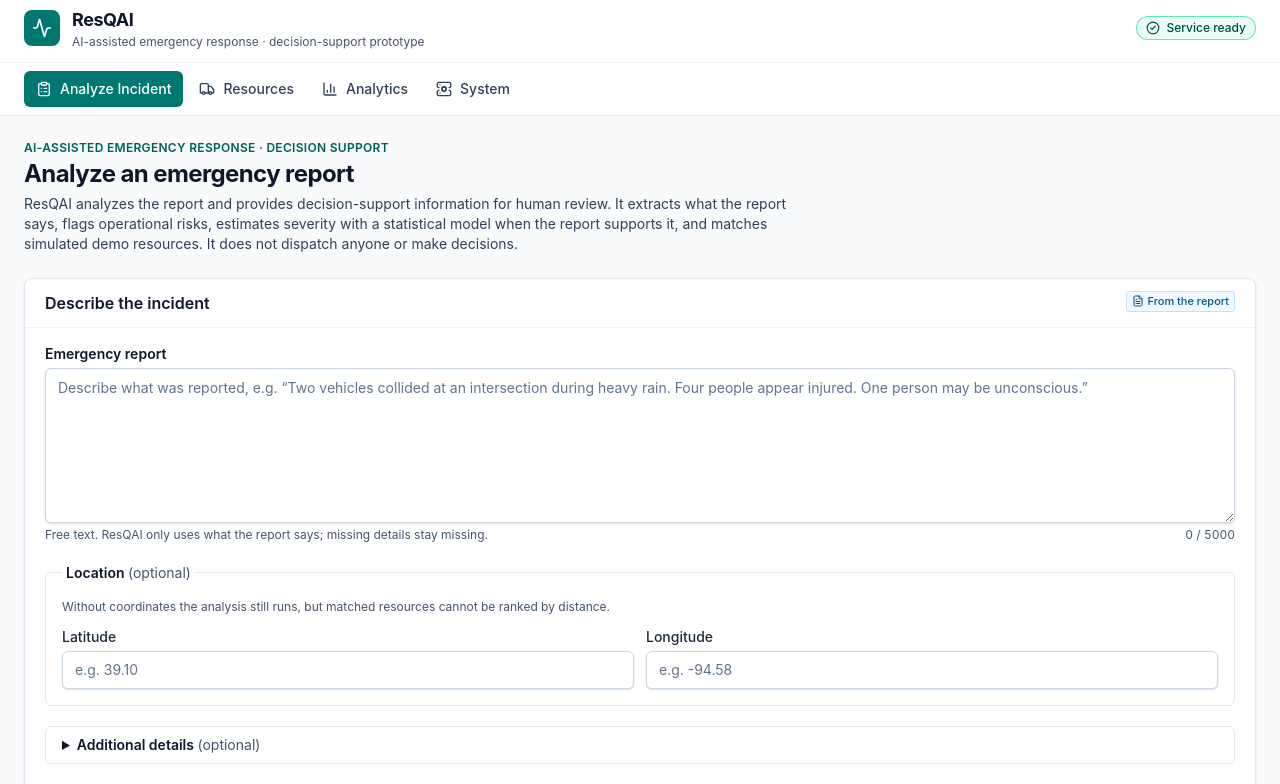
it: Analyze page › maps a backend 422 onto the matching form field
Type "Two cars collided at an intersection during heavy rain. One person may be unconscious." into the text box labelled "Emergency report". click: (640, 445)
box: [45, 368, 1235, 522]
(page scrolled)
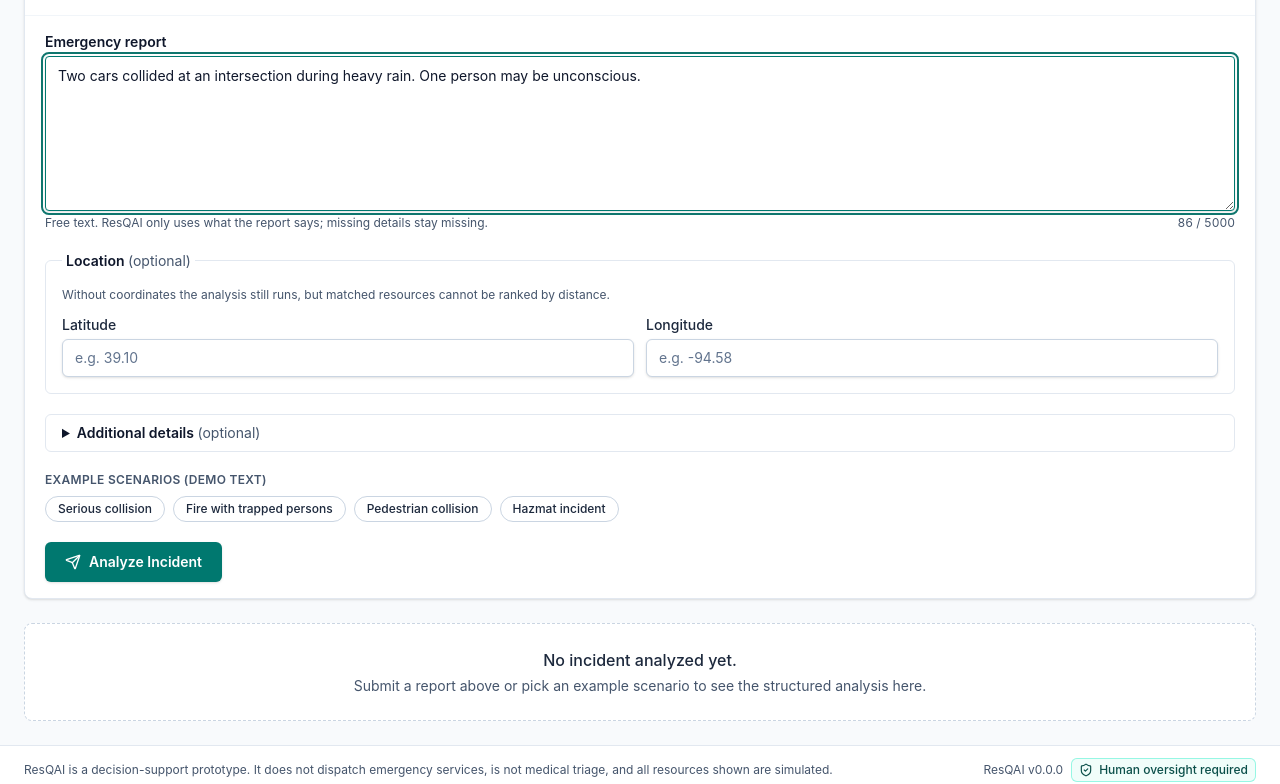
Click the button "Analyze Incident". click: (134, 562)
box: [45, 542, 222, 582]
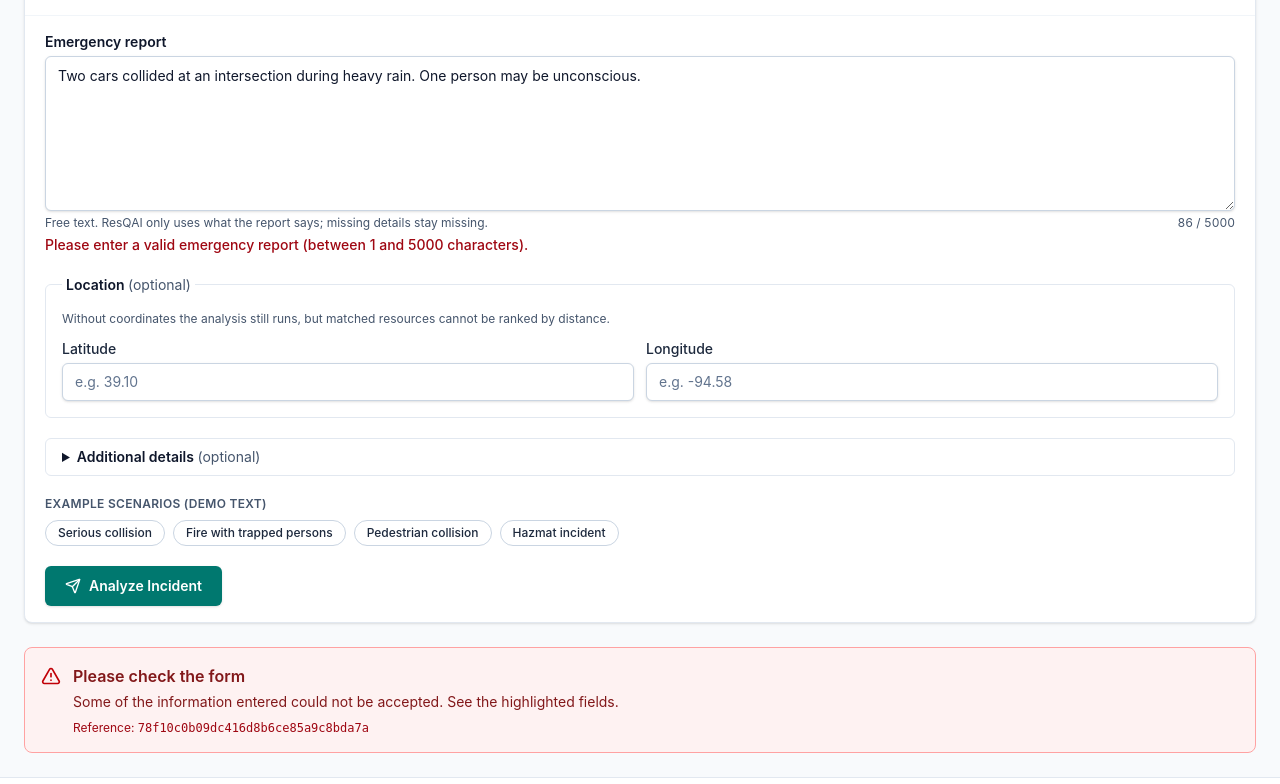
Result: the text "Please enter a valid emergency report (between 1 and 5000 characters)." is shown at [45, 236, 528, 252]
